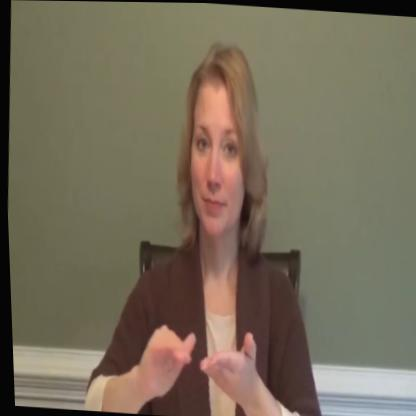ExcuseMe: (69, 30, 344, 416)
